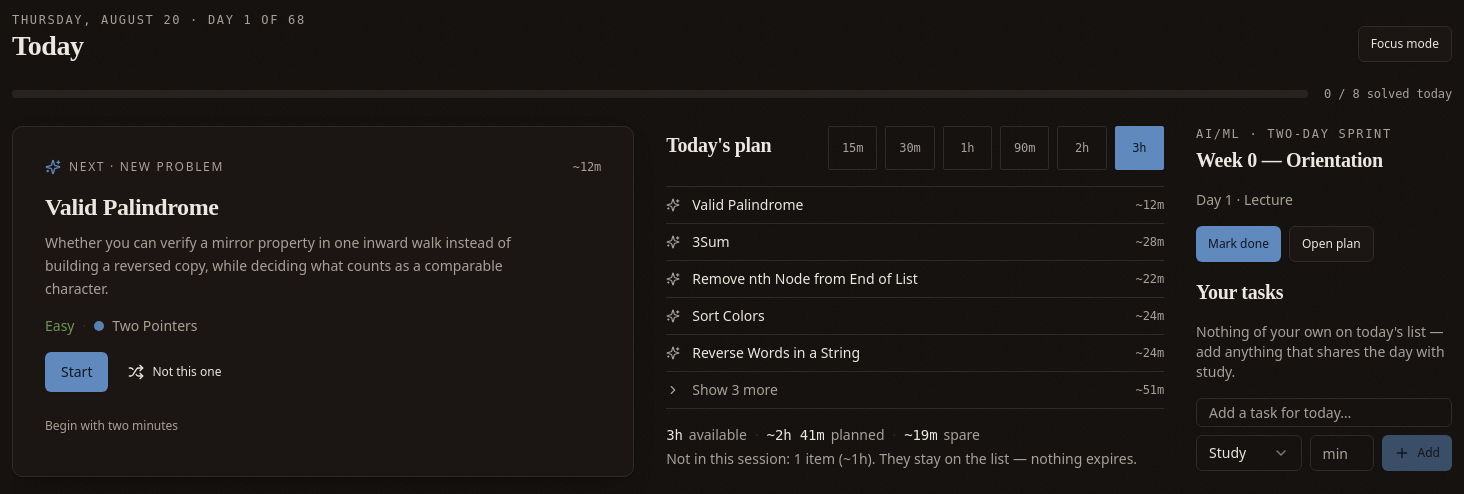
Scenario: TodayPage — "I have N minutes" › the chosen budget is the one the plate reports against
Click the radio button labelled "30m" at (910, 148), box [885,126,935,170]
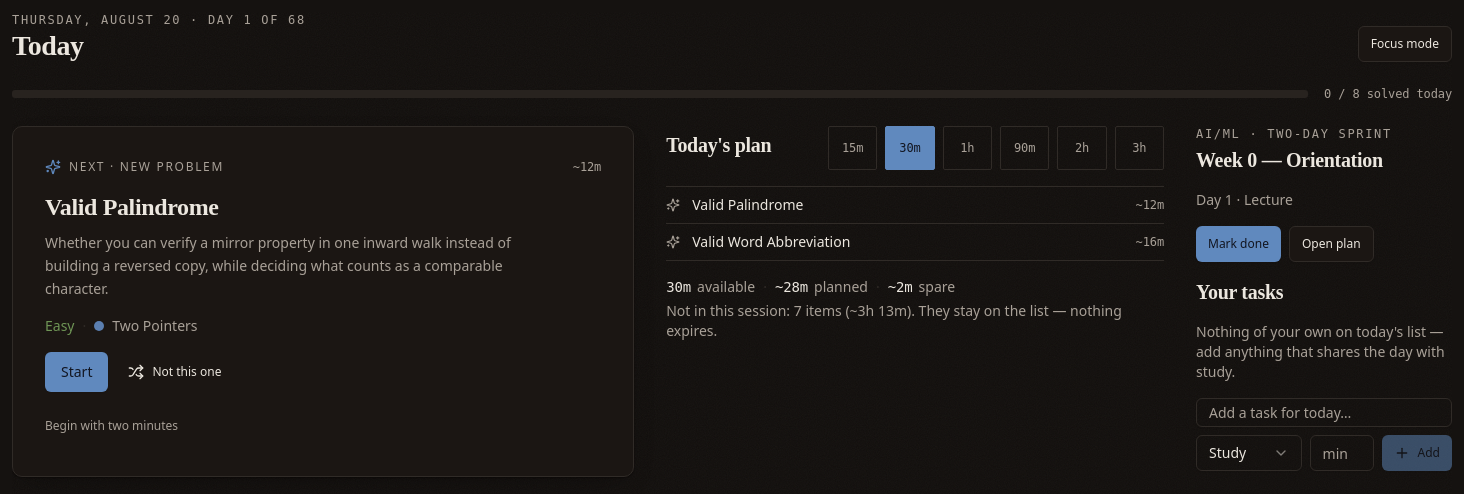
Expected: the text "30m" is shown, [666,277,691,297]
